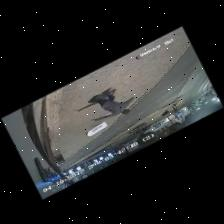person: (89, 92, 134, 120)
